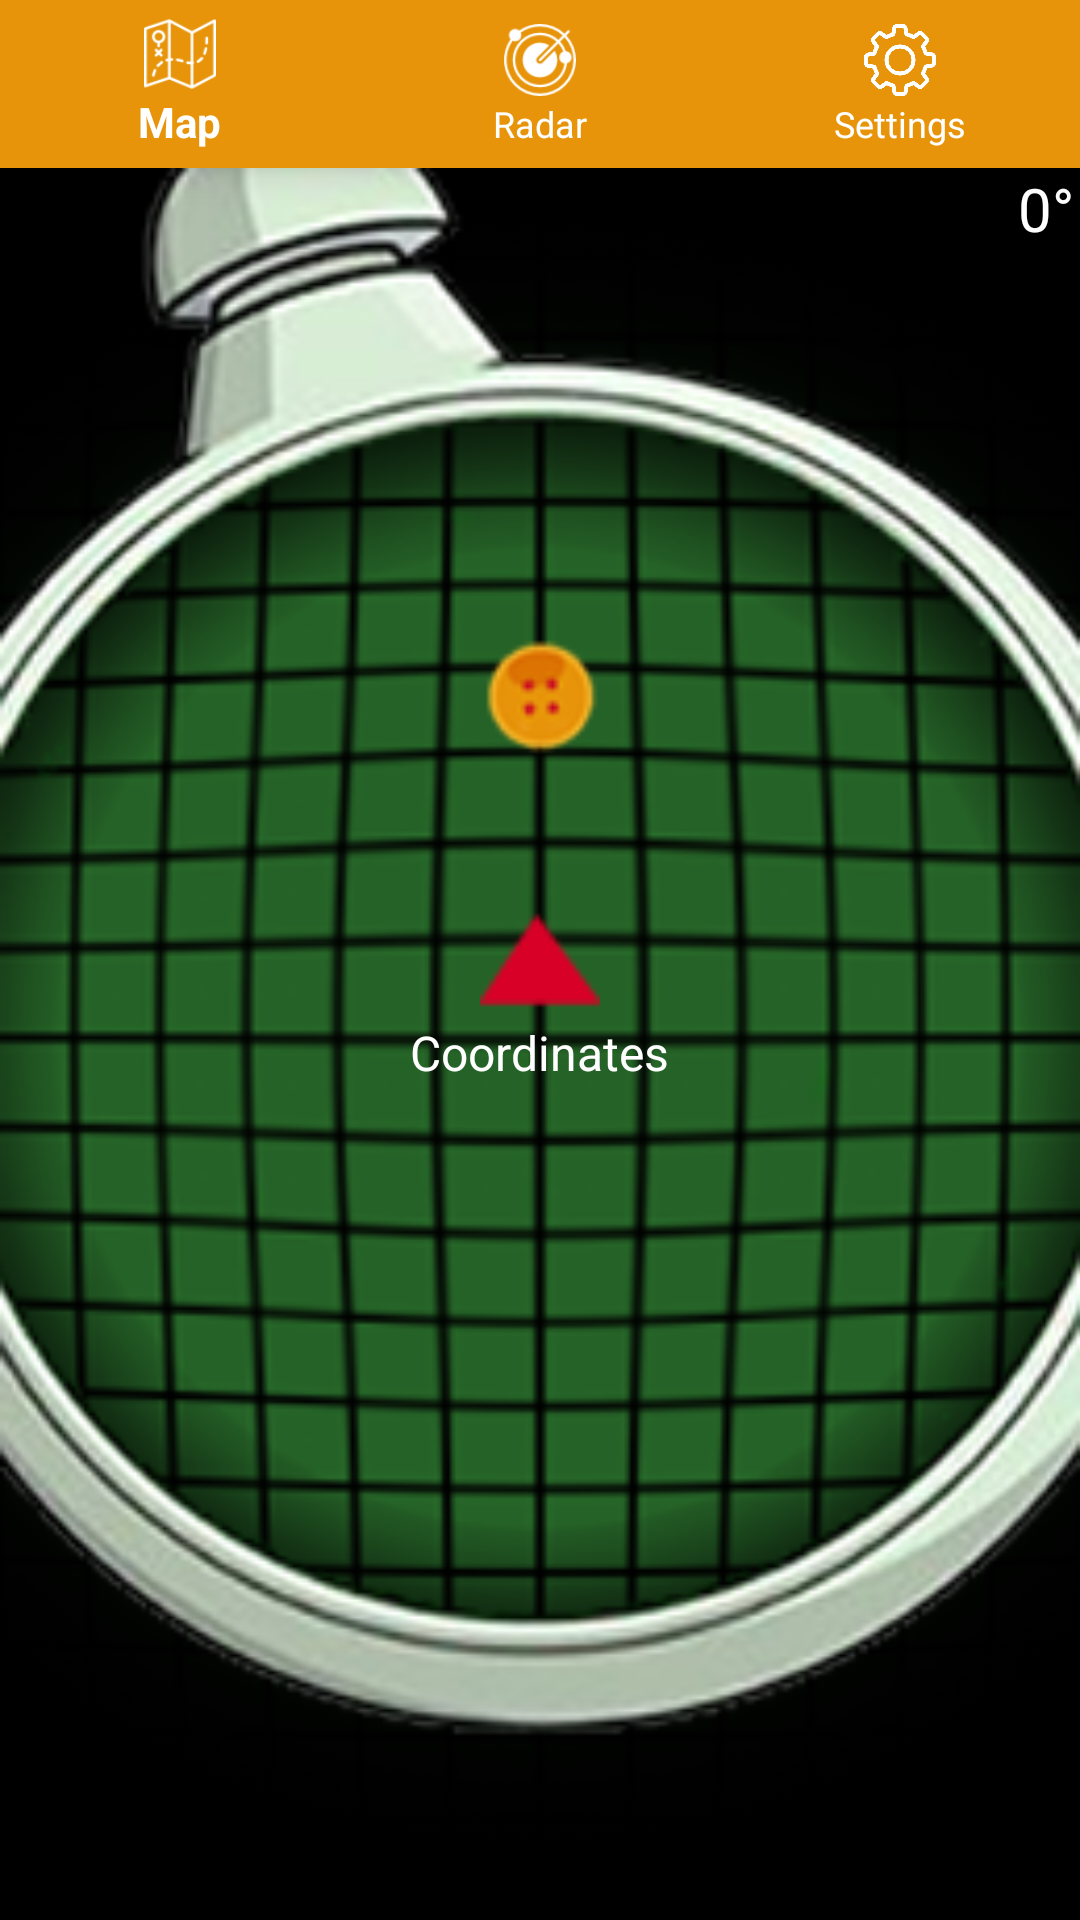

Named icons in this screenshot (1080 x 1920) and their centers, [x,y]:
arrowup: [540,960]
